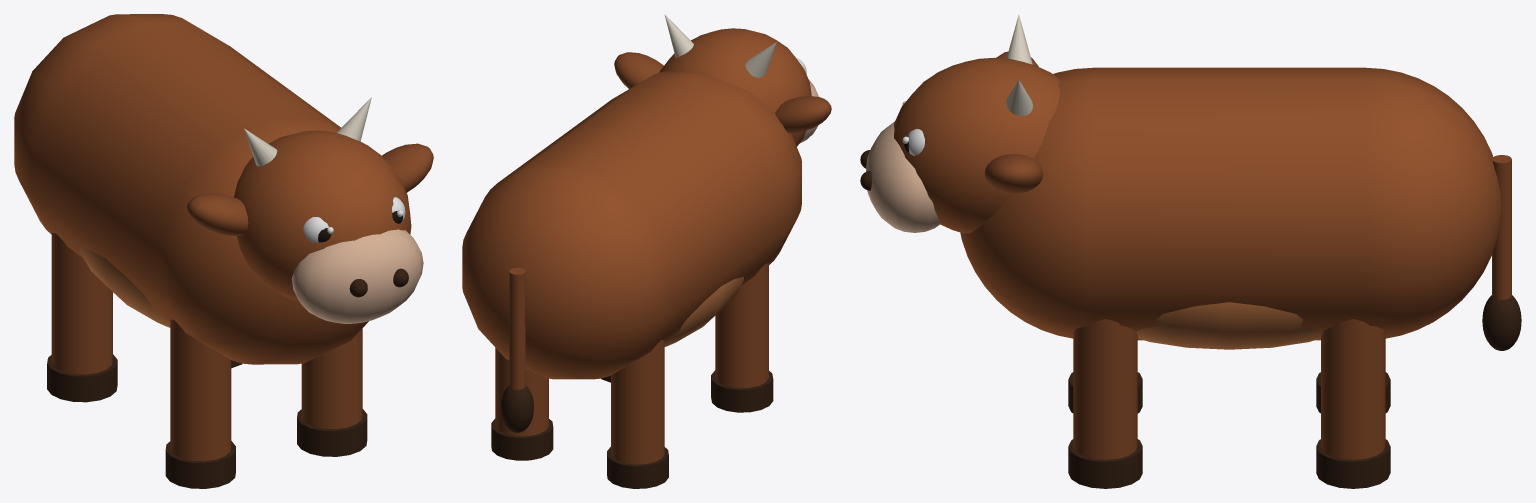
File: shamiCow.glb
3 views of the same model, side by side, from view 1: azimuth 30°, elevation 25°; view 2: azimuth 150°, elevation 25°; view 3: azimuth 270°, elevation 25° (orthographic). The views are drawn at different scales.
Visible parts, largest first — view 1: part_000, part_002; view 2: part_000, part_002, part_003; view 3: part_000, part_002, part_003.
Part boxes in pixels (bbox=[...]): part_000: bbox=[14, 14, 368, 488]; part_002: bbox=[187, 97, 433, 323]; part_000: bbox=[462, 71, 801, 488]; part_002: bbox=[614, 14, 831, 146]; part_003: bbox=[501, 267, 533, 432]; part_000: bbox=[960, 67, 1501, 488]; part_002: bbox=[860, 14, 1060, 233]; part_003: bbox=[1482, 155, 1521, 350].
Size of the model in its own units: 1.18 by 1.75 by 2.67.
